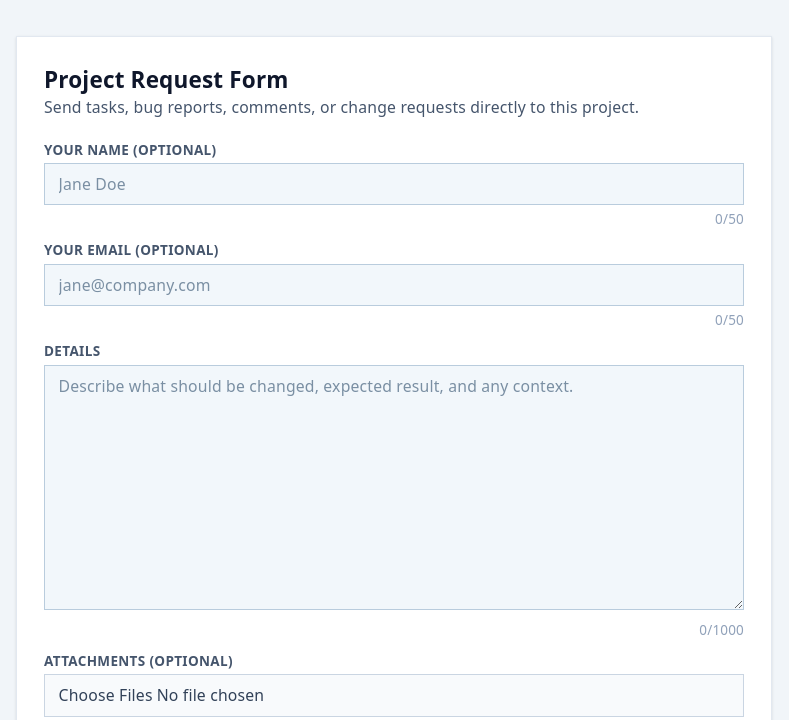
Scenario: ClientIntakePage › submits trimmed payload and shows success status
Step 1. Type "  Client Jane  " into the field labelled "Your Name (optional) 0/50" → (394, 184), box [44,163,744,206]
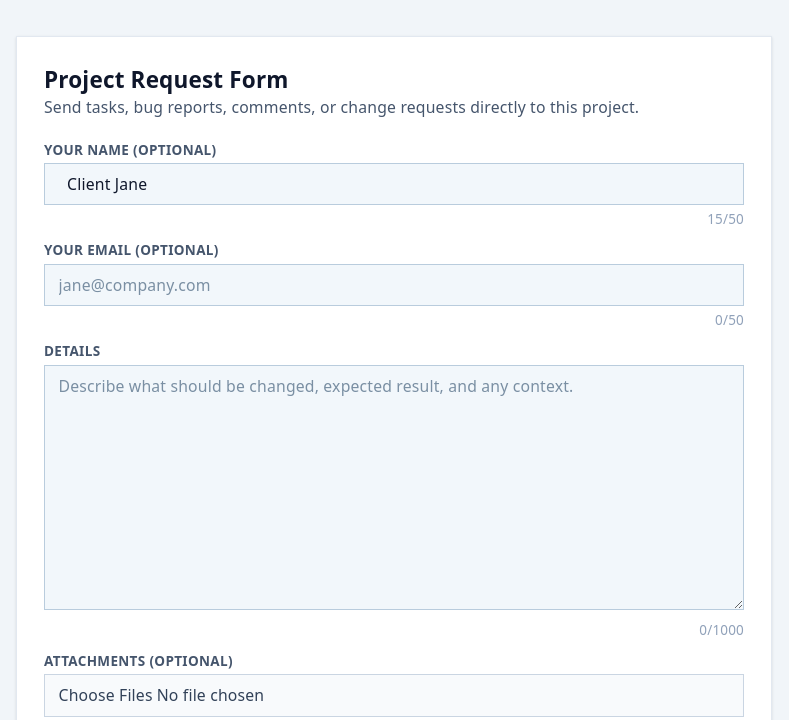
Step 2. Type "  jane@example.com  " into the field labelled "Your Email (optional) 0/50" → (394, 285), box [44,264,744,306]
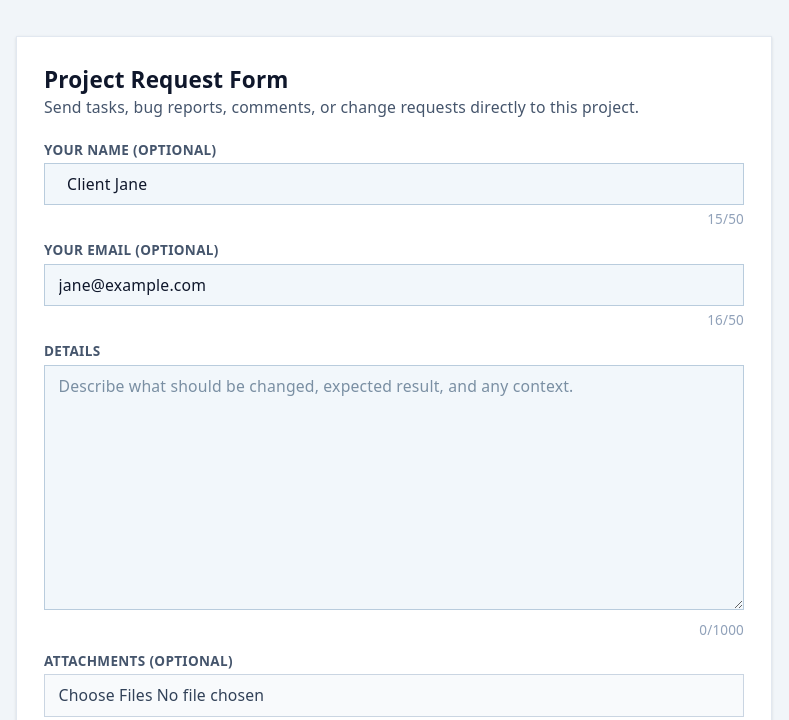
Step 3. Replace the text in the text box labelled "Details 0/1000" with "  The dashboard takes 10+ seconds to load after login.  " → (394, 487), box [44,365,744,610]
(page scrolled)
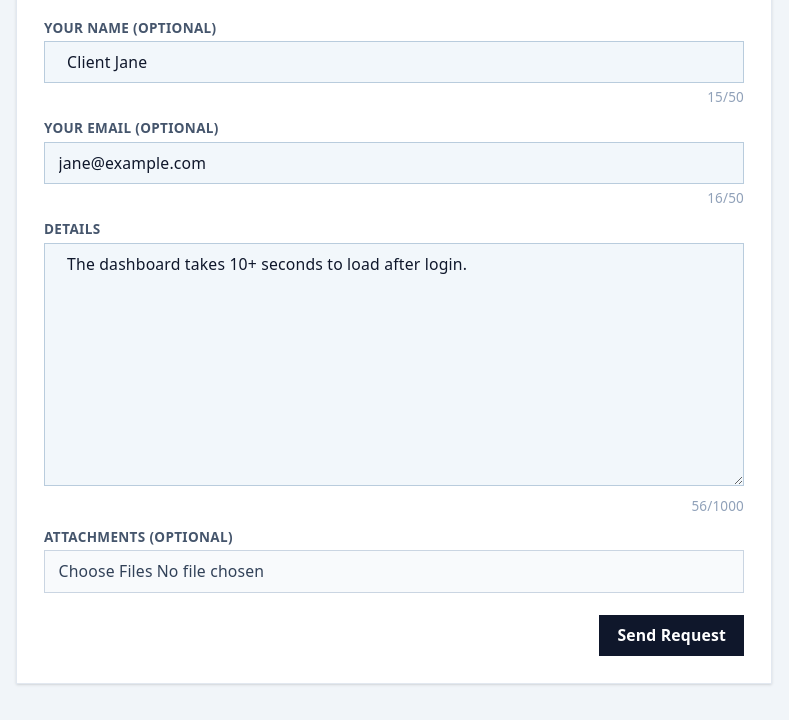
Step 4. Click the button "Send Request" → (672, 636), box [599,616,744,656]
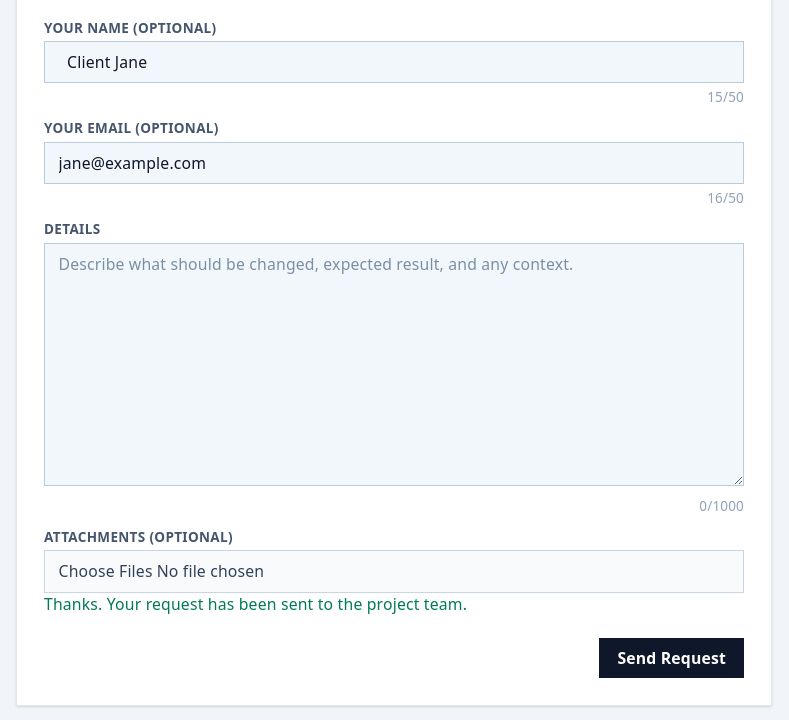
Now the text "Thanks. Your request has been sent to the project team." is shown, box [44,593,467,615]
